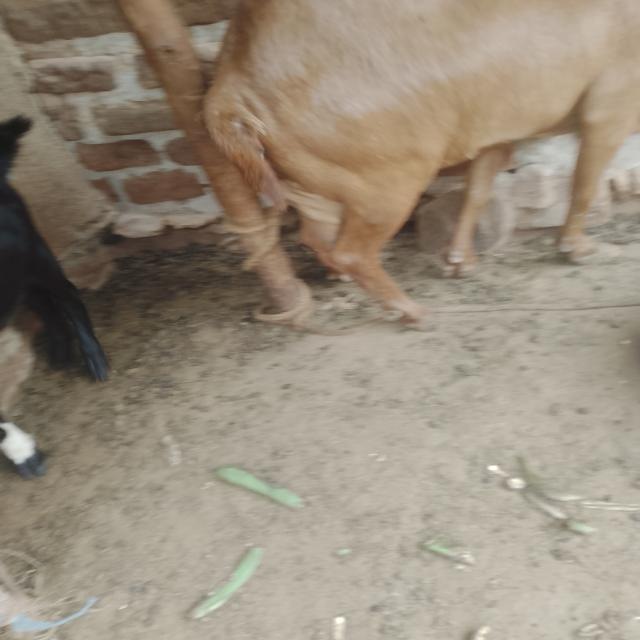goat: (152, 0, 640, 354)
